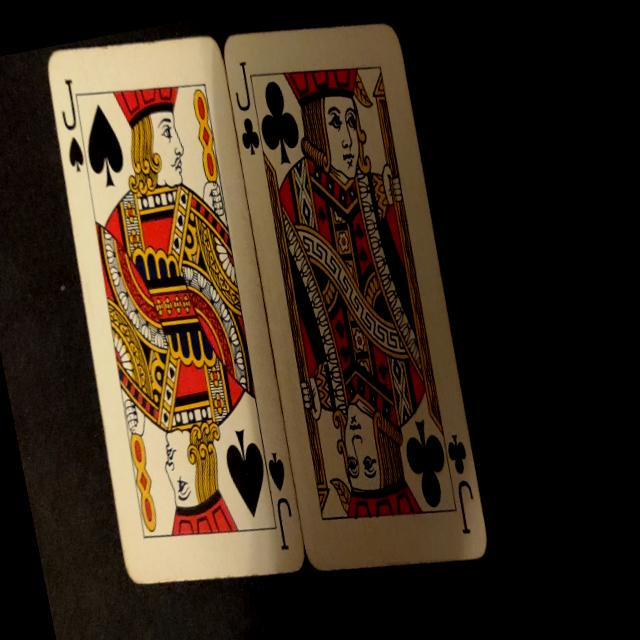Club: (401, 416, 454, 511), (252, 78, 304, 169), (238, 116, 262, 158), (446, 433, 470, 475)
Jack: (272, 496, 298, 551), (56, 78, 82, 131), (454, 480, 479, 534), (230, 61, 255, 112)
Spade: (221, 426, 273, 521), (80, 102, 128, 190), (266, 450, 288, 492), (66, 136, 86, 173)
